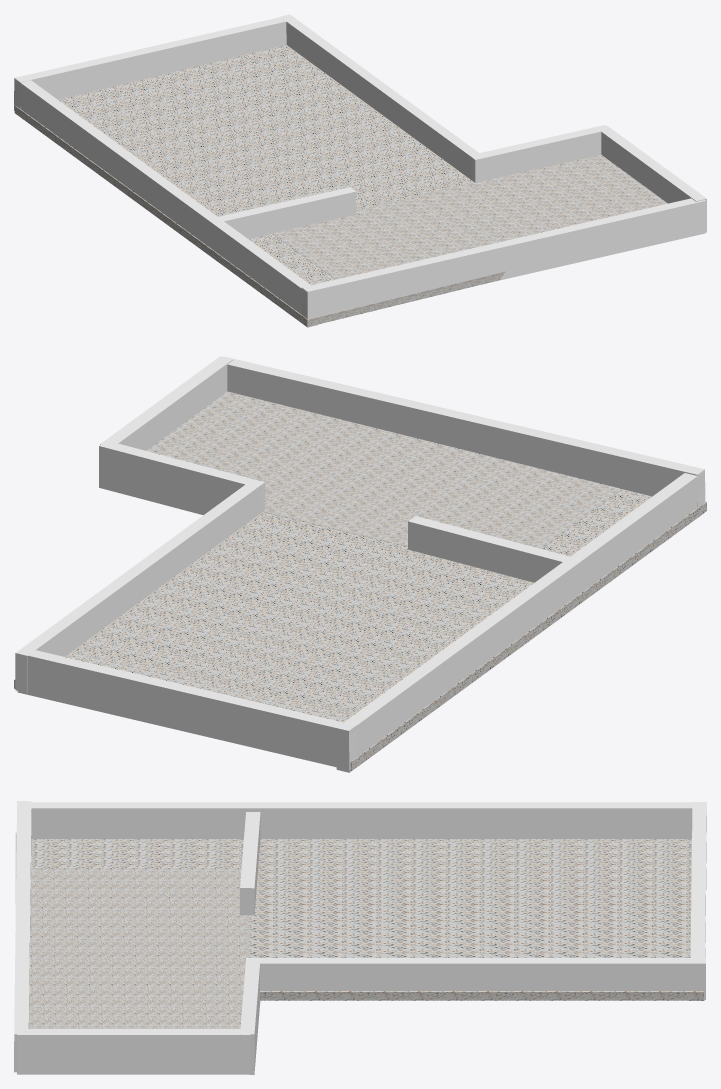
3 views of the same model, one above another, from view 1: azimuth 30°, elevation 25°; view 2: azimuth 150°, elevation 25°; view 3: azimuth 270°, elevation 25° (orthographic). The views are drawn at different scales.
Visible parts, largest first — view 1: Ground, Ground__1_, Cube__3_, Cube, Cube__2_, Cube__1_, Cube__5_, Cube__6_, Cube__4_; view 2: Ground, Ground__1_, Cube__3_, Cube, Cube__2_, Cube__1_, Cube__5_, Cube__6_, Cube__4_; view 3: Ground, Ground__1_, Cube, Cube__1_, Cube__4_, Cube__3_, Cube__2_, Cube__6_, Cube__5_.
Boxes of the visible parts, x1,y1,x2,y2 form: Ground: (14, 45, 505, 326); Ground__1_: (272, 154, 667, 279); Cube__3_: (301, 198, 705, 319); Cube: (14, 79, 317, 327); Cube__2_: (14, 17, 287, 110); Cube__1_: (280, 14, 478, 180); Cube__5_: (470, 125, 610, 182); Cube__6_: (218, 187, 355, 238); Cube__4_: (601, 126, 706, 232); Ground: (14, 489, 706, 770); Ground__1_: (146, 391, 622, 548); Cube__3_: (225, 356, 705, 507); Cube: (336, 471, 704, 772); Cube__2_: (17, 649, 356, 770); Cube__1_: (15, 484, 261, 693); Cube__5_: (99, 440, 265, 515); Cube__6_: (408, 516, 569, 582); Cube__4_: (100, 356, 233, 450); Ground: (15, 832, 703, 1000); Ground__1_: (29, 867, 249, 1028); Cube: (31, 802, 692, 838); Cube__1_: (260, 958, 705, 999); Cube__4_: (17, 1029, 250, 1074); Cube__3_: (14, 801, 31, 1072); Cube__2_: (690, 802, 706, 1000); Cube__6_: (240, 812, 260, 915); Cube__5_: (240, 958, 260, 1074).
Bounding box in the file's own units: 5778 × 531 × 7371.
Materials: 2 (1 with a texture image).
